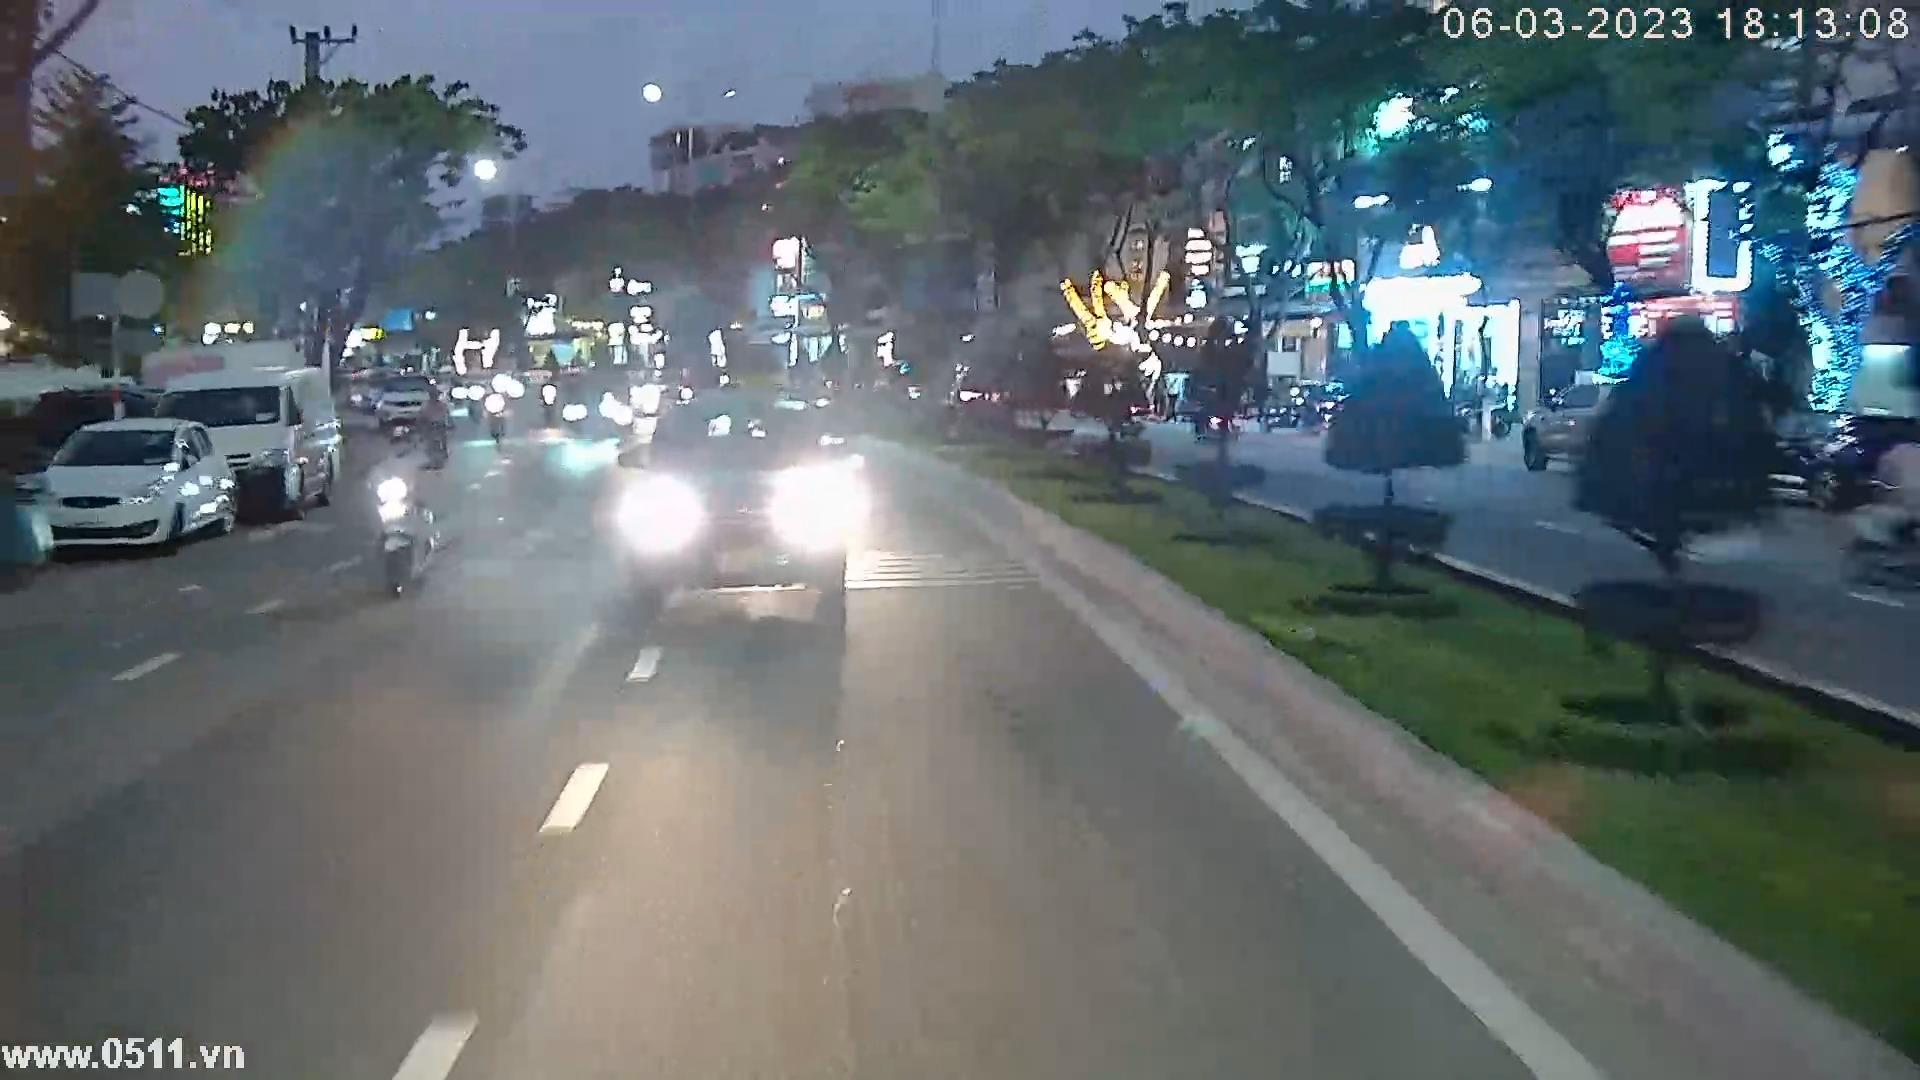car: (618, 389, 860, 625), (26, 414, 244, 564), (152, 363, 340, 518)
motorcycle: (360, 413, 452, 600)
